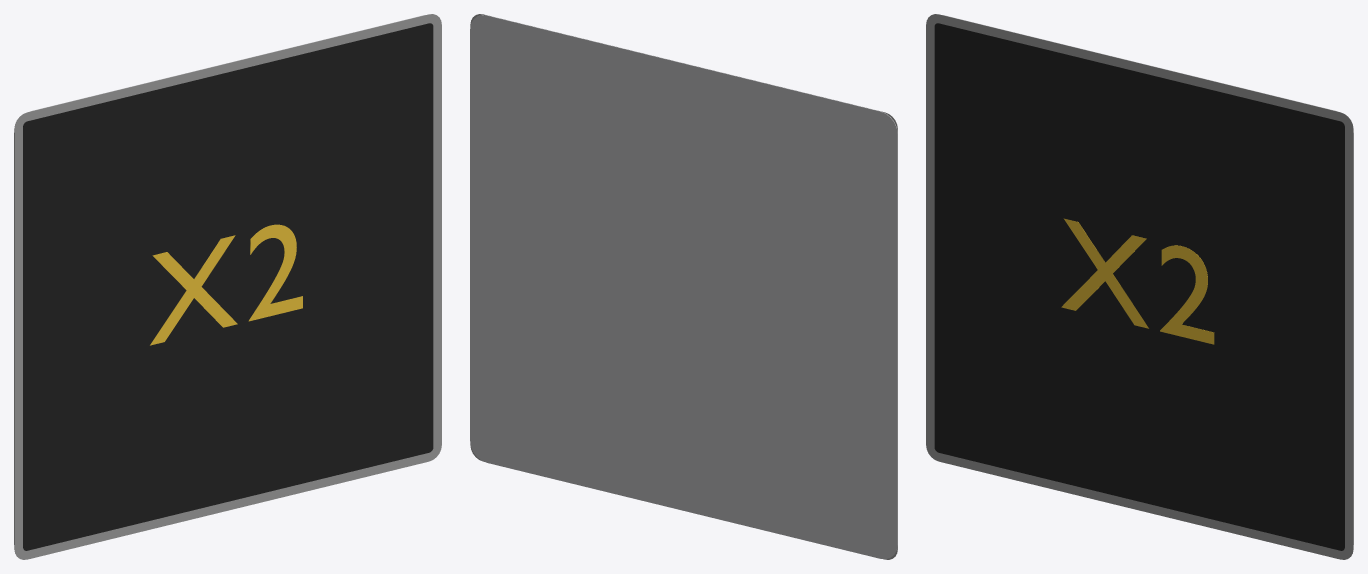
The picture shows the model from 3 angles, left to right: view 1: azimuth 30°, elevation 25°; view 2: azimuth 150°, elevation 25°; view 3: azimuth 330°, elevation 25°; orthographic projection.
Visible parts, largest first — view 1: X2_fond01, X2_cadre00, X2_txt02, X2_dos; view 2: X2_dos, X2_cadre00; view 3: X2_fond01, X2_cadre00, X2_txt02, X2_dos.
Part boxes in pixels (left/top/right/bottom): X2_fond01: left=23, top=23, right=433, bottom=550; X2_cadre00: left=14, top=14, right=441, bottom=559; X2_txt02: left=150, top=224, right=302, bottom=345; X2_dos: left=14, top=15, right=424, bottom=544; X2_dos: left=470, top=15, right=897, bottom=559; X2_cadre00: left=470, top=14, right=897, bottom=559; X2_fond01: left=934, top=23, right=1344, bottom=550; X2_cadre00: left=926, top=14, right=1353, bottom=559; X2_txt02: left=1061, top=218, right=1214, bottom=344; X2_dos: left=943, top=15, right=1353, bottom=544.
Bounding box in the file's own units: 1 × 1 × 0.0025.
